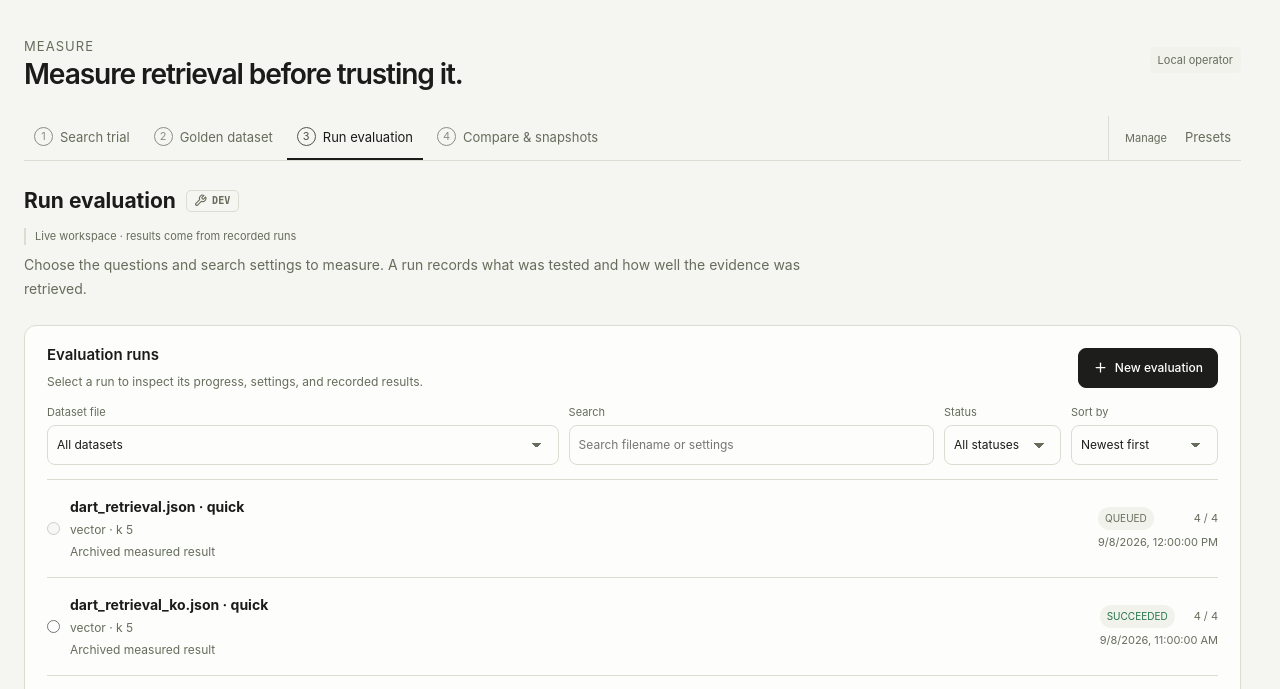
it: filters run history by file and status, searches settings, and sorts without changing identities
Expected: the text "dart_retrieval_ko.json · quick" is shown, [70,596,268,613]
Select "DART · English questions · dart_retrieval.json (Built-in)" in the dropdown labelled "Dataset file" at (303, 445), box [47,425,559,465]
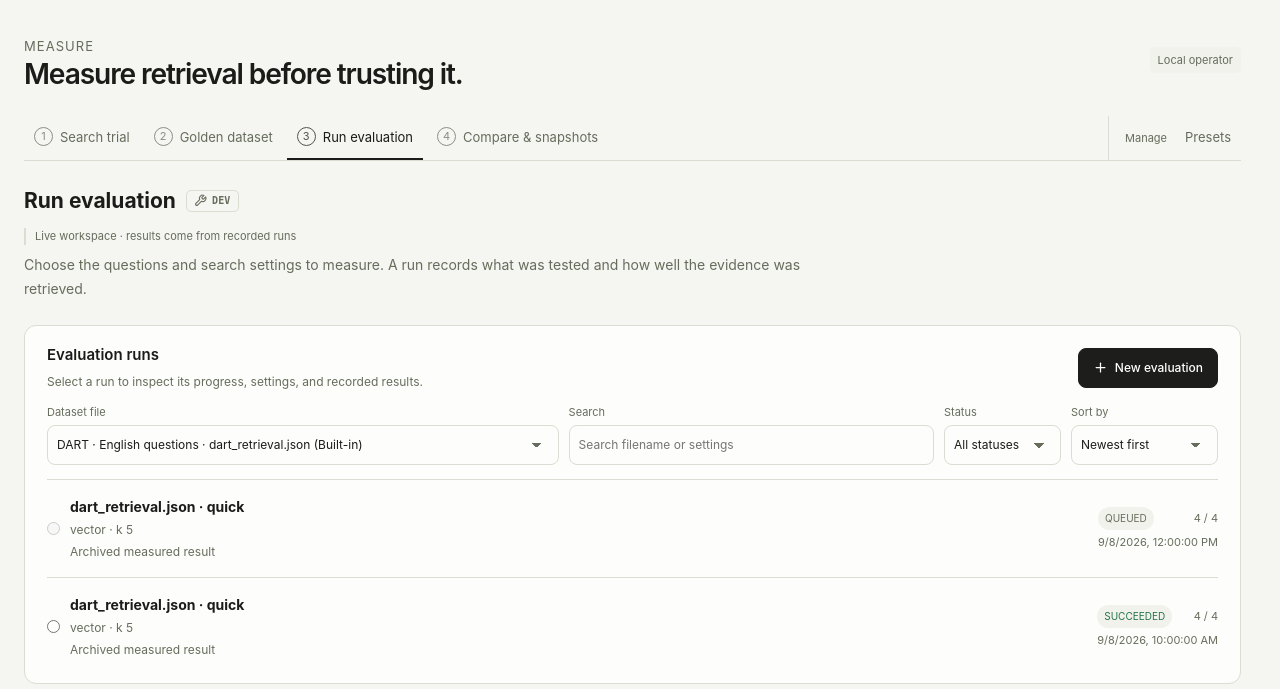
Result: the number of radio buttons named "Select " is 2 at [47,522,60,535]; [47,620,60,633]
Select "queued" in the dropdown labelled "Status" at (1002, 445), box [944,425,1061,465]
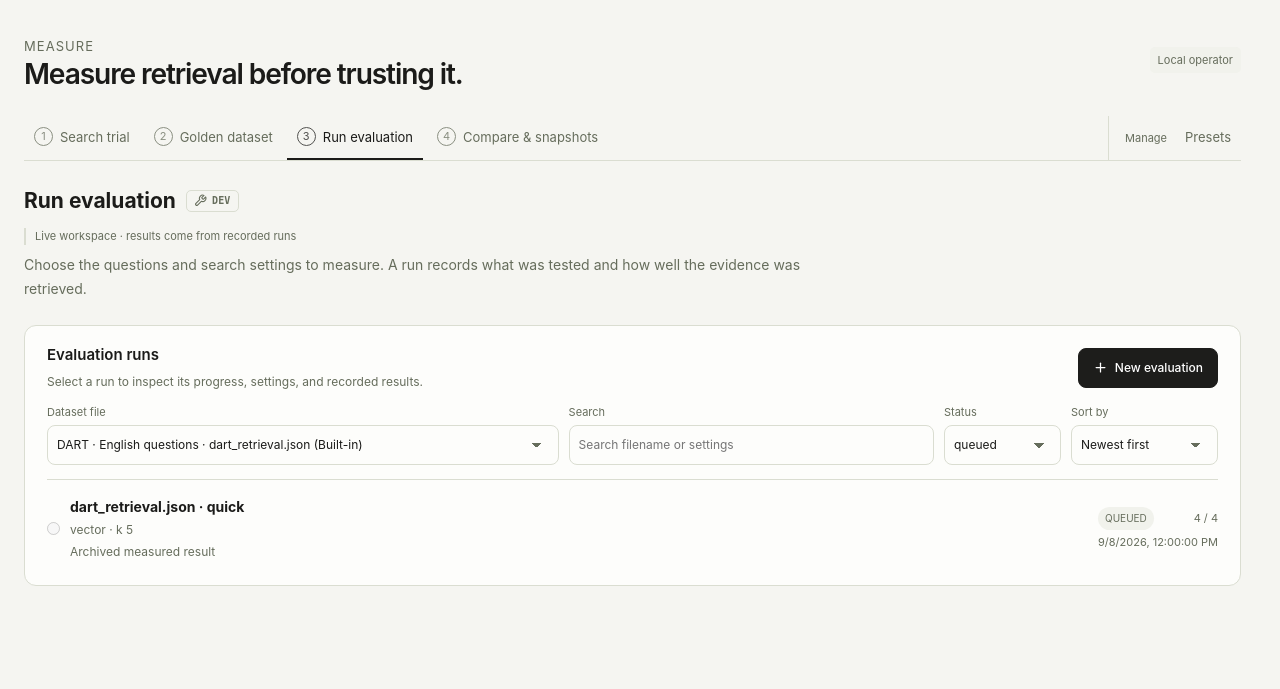
Result: the number of radio buttons named "Select " is 1 at [47,522,60,535]
Select "All statuses" in the dropdown labelled "Status" at (1002, 445), box [944,425,1061,465]
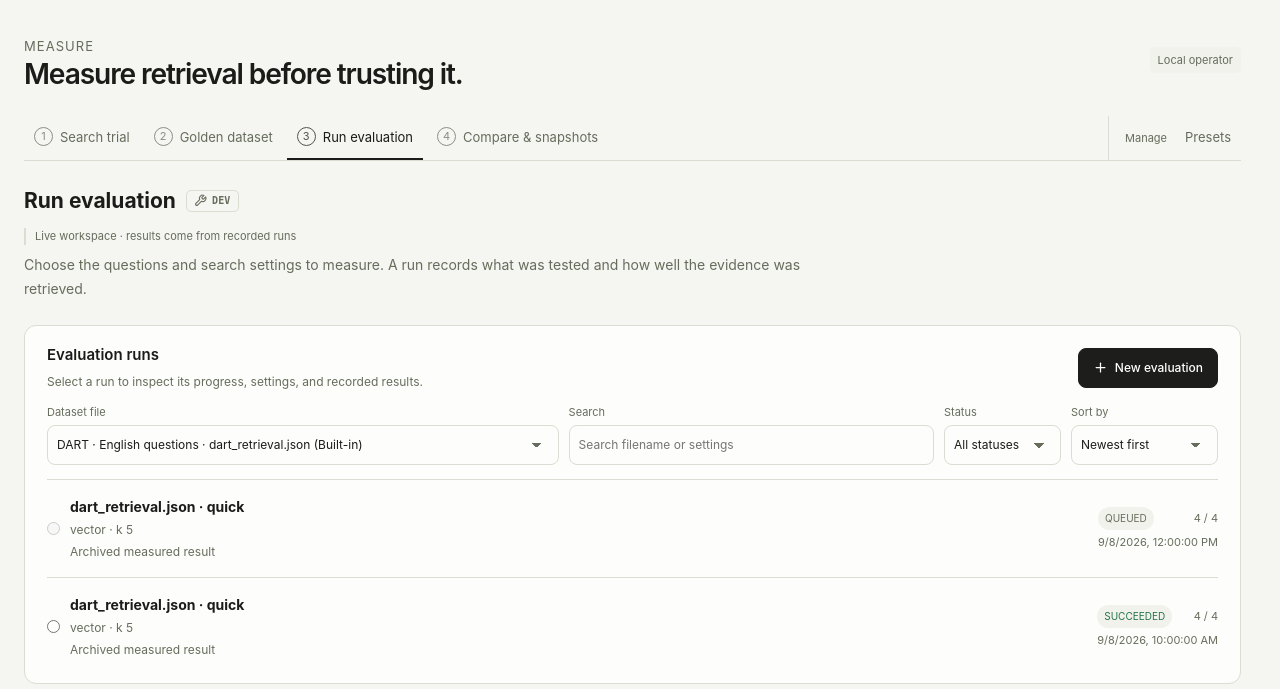
Select "Oldest first" in the dropdown labelled "Sort by" at (1144, 445), box [1071,425,1218,465]
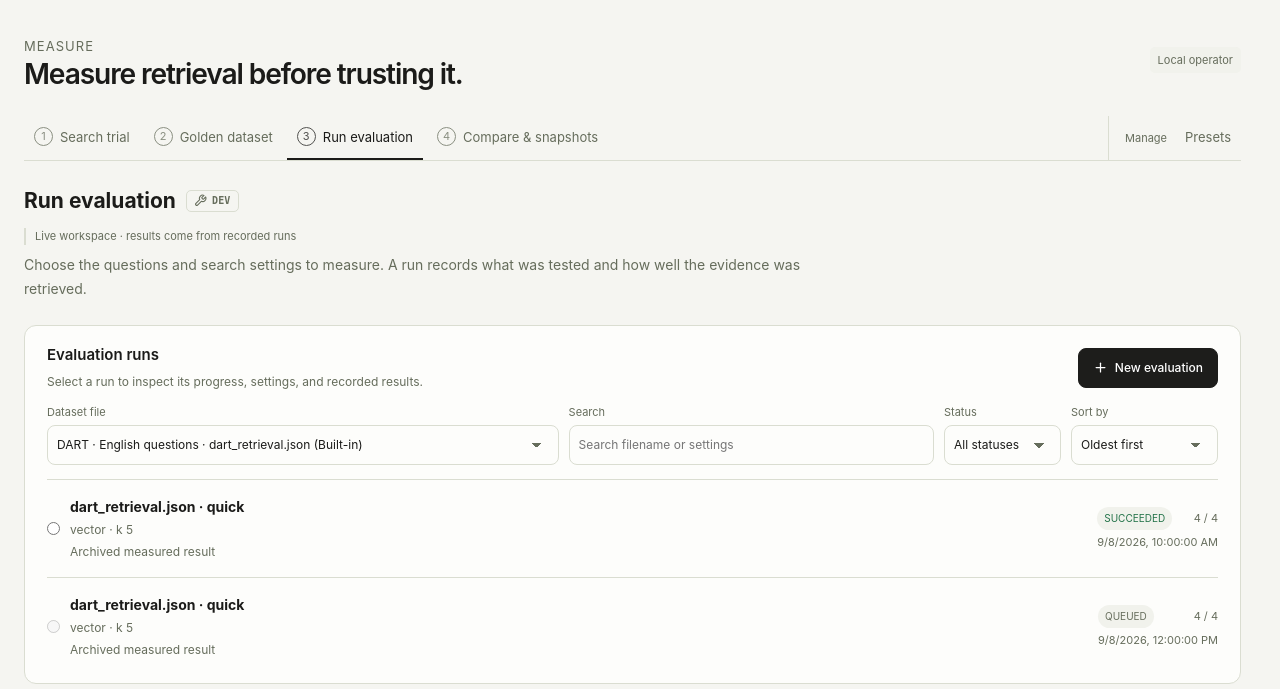
Select "All datasets" in the dropdown labelled "Dataset file" at (303, 445), box [47,425,559,465]
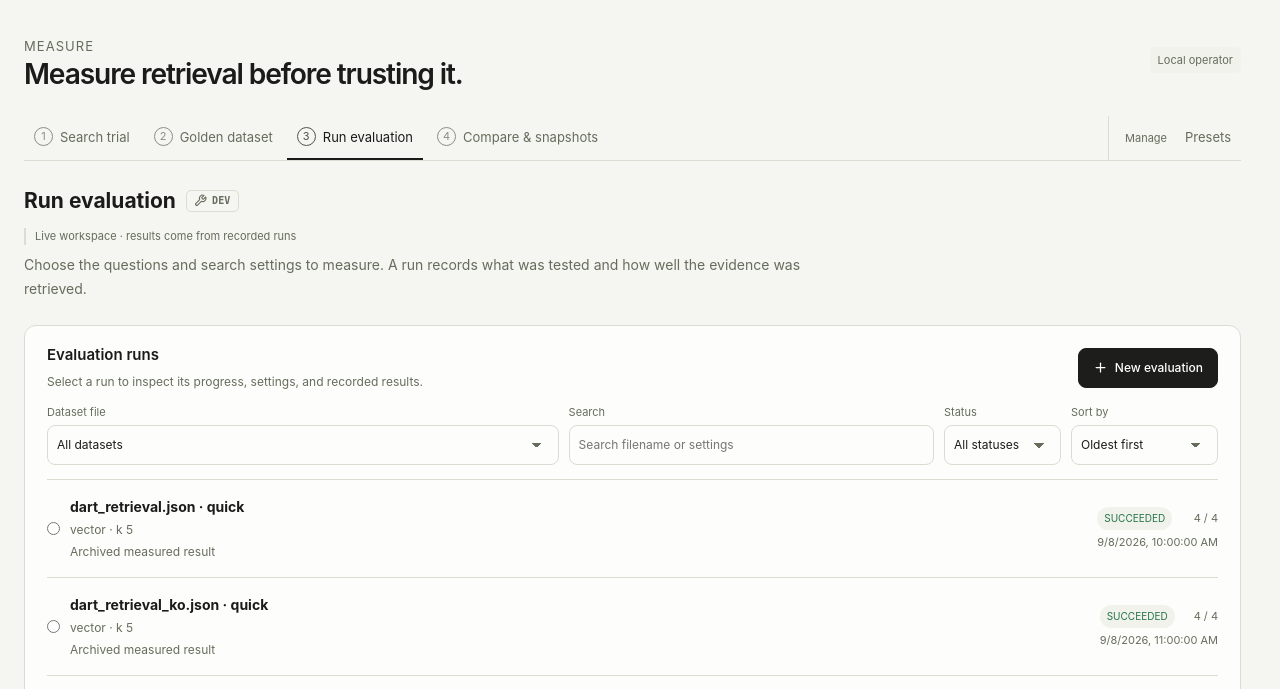
Type "_ko.json" into the field with placeholder "Search filename or settings" at (751, 445), box [569,425,934,465]
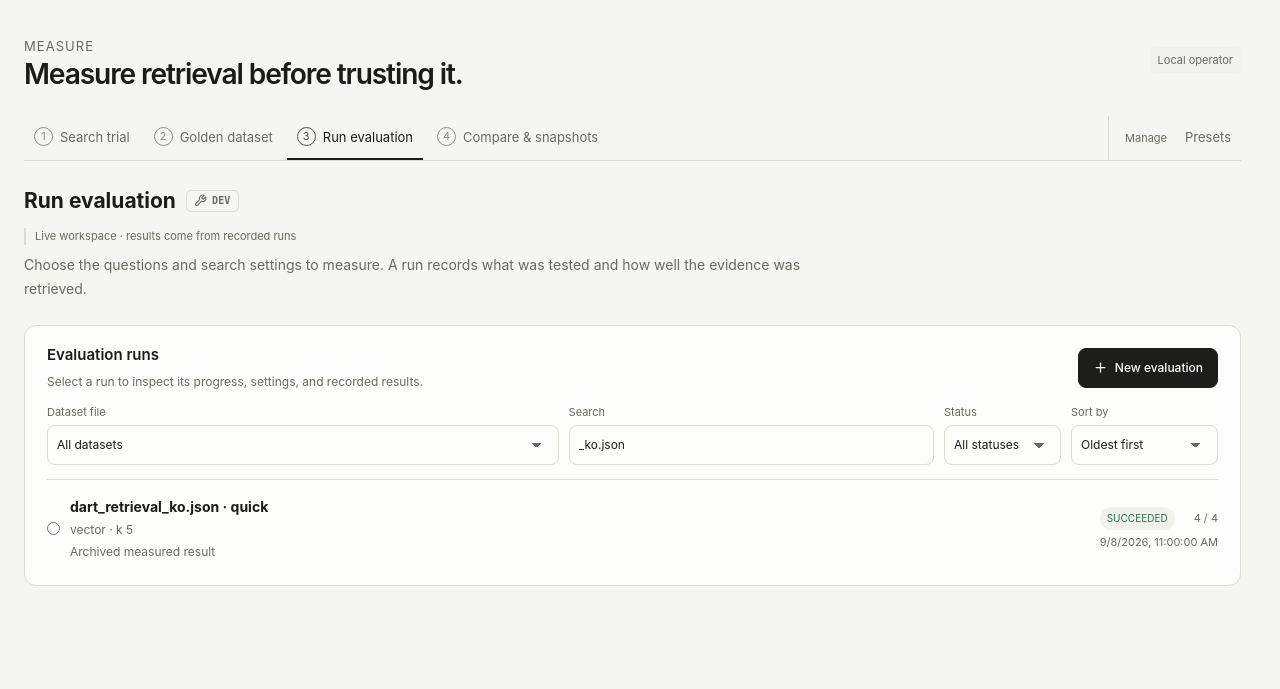
Result: the number of radio buttons named "Select " is 1 at [47,522,60,535]
